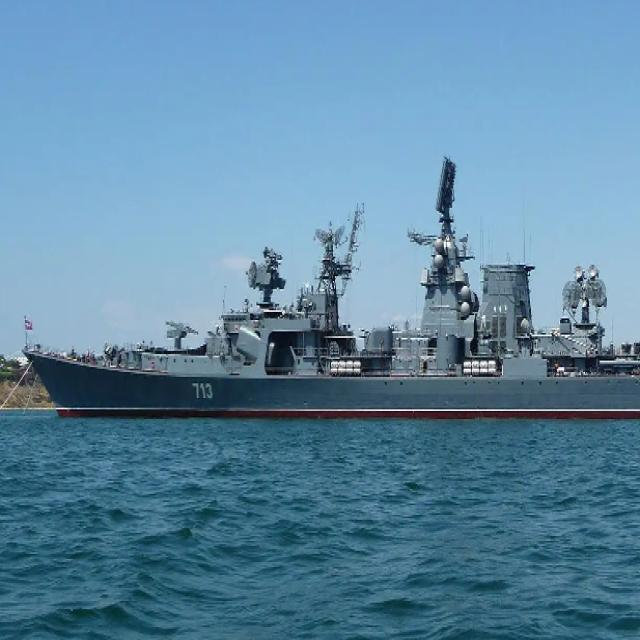navalvessels: (25, 163, 640, 419)
